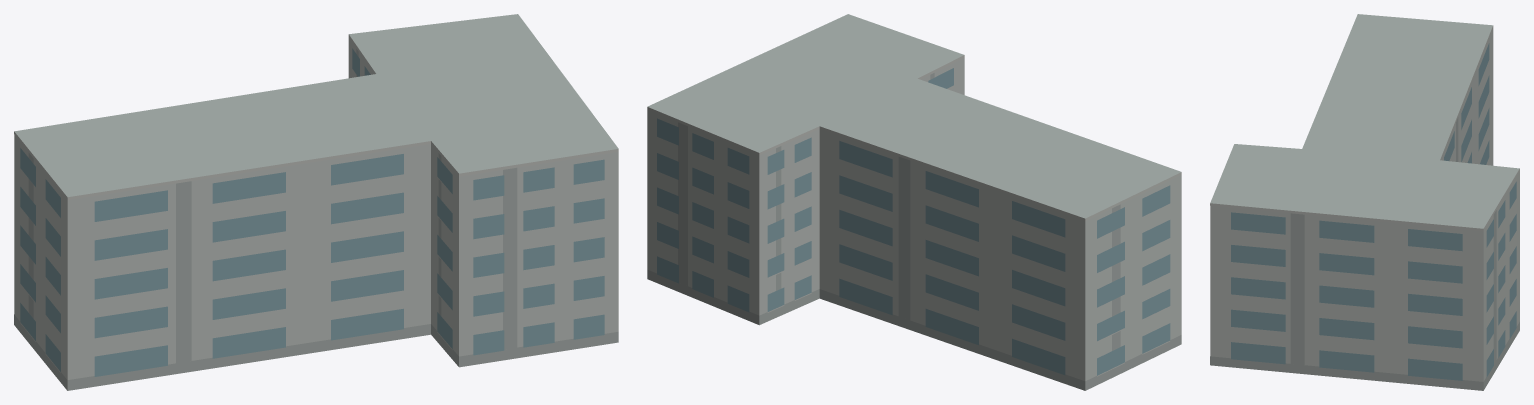
File: residential-dde7601b-1dcb-45b1-838e-13ad8540bd2c.glb
The picture shows the model from 3 angles, left to right: view 1: azimuth 30°, elevation 25°; view 2: azimuth 150°, elevation 25°; view 3: azimuth 270°, elevation 25°; orthographic projection. The views are drawn at different scales.
Visible parts, largest first — view 1: residential-dde7601b-1dcb-45b1-838e-13ad8540bd2c.tmp; view 2: residential-dde7601b-1dcb-45b1-838e-13ad8540bd2c.tmp; view 3: residential-dde7601b-1dcb-45b1-838e-13ad8540bd2c.tmp.
Boxes of the visible parts, x1,y1,x2,y2 form: residential-dde7601b-1dcb-45b1-838e-13ad8540bd2c.tmp: [14, 14, 618, 390]; residential-dde7601b-1dcb-45b1-838e-13ad8540bd2c.tmp: [647, 14, 1181, 390]; residential-dde7601b-1dcb-45b1-838e-13ad8540bd2c.tmp: [1210, 14, 1519, 390].
Bounding box in the file's own units: 43.33 × 15.25 × 26.41.
